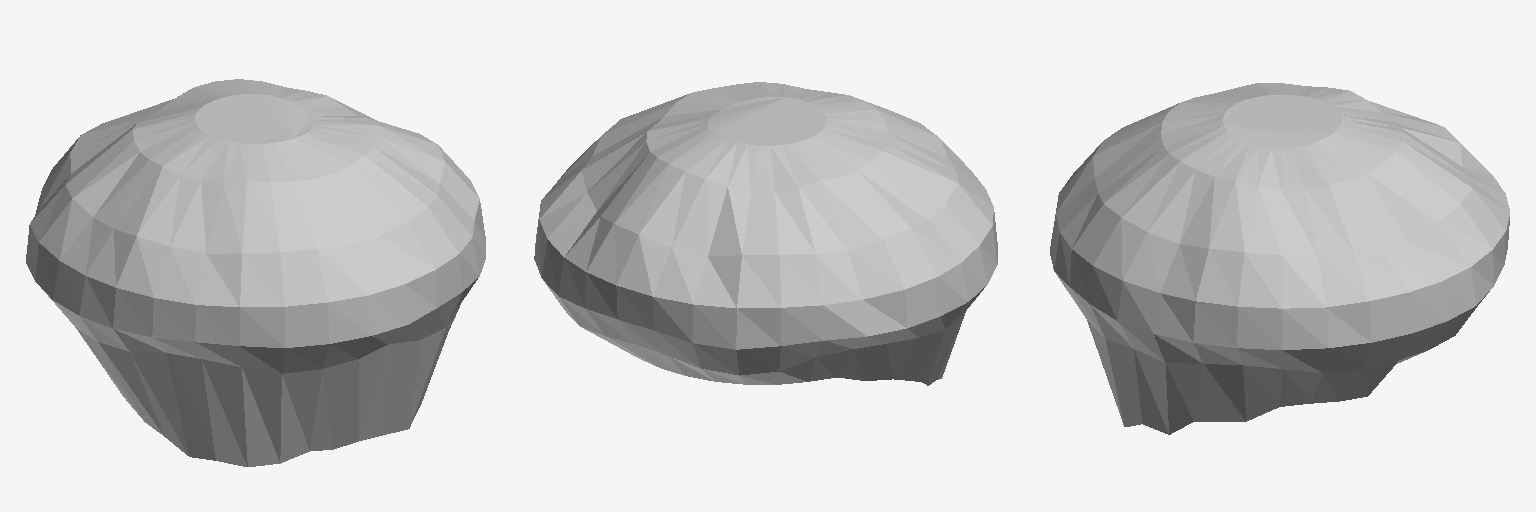
File: afro.obj
3 views of the same model, side by side, from view 1: azimuth 30°, elevation 25°; view 2: azimuth 150°, elevation 25°; view 3: azimuth 270°, elevation 25° (orthographic).
Visible parts, largest first — view 1: Afro_Circle; view 2: Afro_Circle; view 3: Afro_Circle.
Part boxes in pixels (bbox=[...]): Afro_Circle: bbox=[26, 79, 485, 466]; Afro_Circle: bbox=[534, 82, 997, 385]; Afro_Circle: bbox=[1050, 83, 1509, 434].
Bounding box in the file's own units: 1.69 × 1.09 × 1.67.